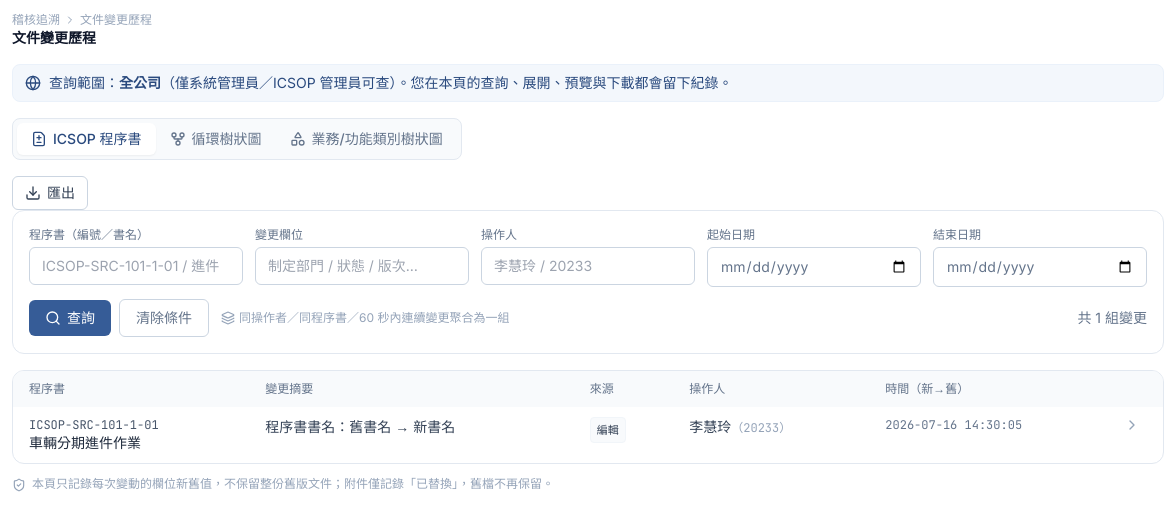
Test case: ChangeHistoryPage 匯出鈕（F037 AC-D1／AC-D10；F038 AC-D1／AC-D6；prototype 23） › F038 AC-D6 循環樹狀圖 tab 之匯出鈕 DOM id 為 `exportTree`，無障礙名稱逐字為 `匯出`
Click the button "循環樹狀圖". click: (216, 139)
box: [156, 123, 276, 155]
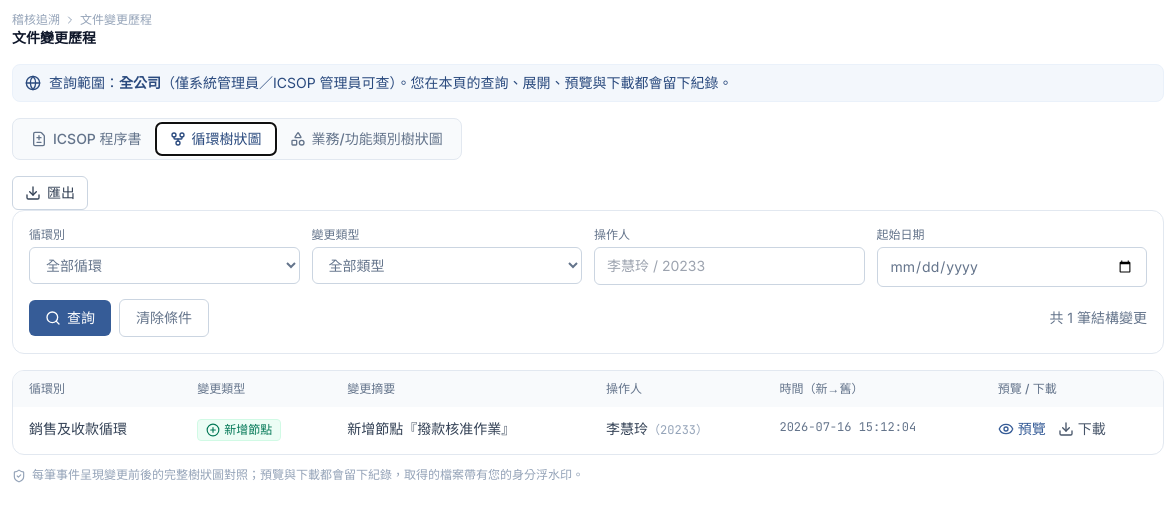
Expected: the button with id "exportTree" is shown, [12, 176, 88, 210]
Now the text "新增節點『撥款核准作業』" is shown, box [331, 407, 590, 454]
